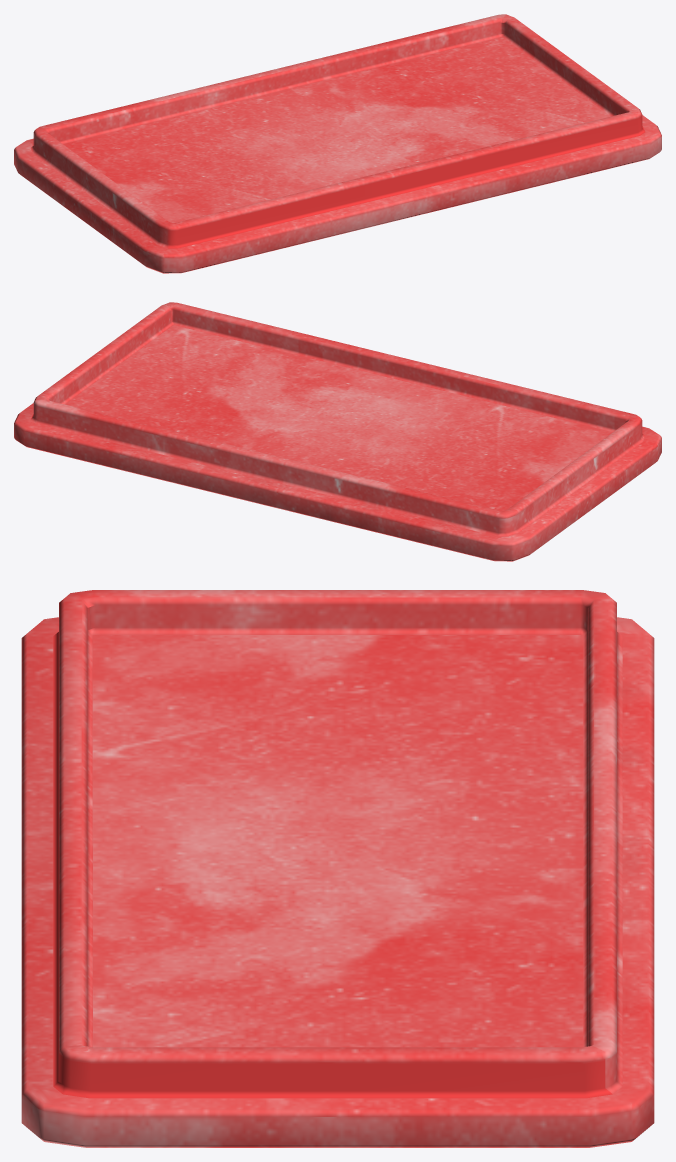
The model's file is SM_Tupper_Cover_2.fbx.
3 views of the same model, one above another, from view 1: azimuth 30°, elevation 25°; view 2: azimuth 150°, elevation 25°; view 3: azimuth 270°, elevation 25° (orthographic). The views are drawn at different scales.
Visible parts, largest first — view 1: SM_Tupper_Cover_2_LOD0; view 2: SM_Tupper_Cover_2_LOD0; view 3: SM_Tupper_Cover_2_LOD0.
Boxes of the visible parts, x1,y1,x2,y2 form: SM_Tupper_Cover_2_LOD0: (14,14,661,273); SM_Tupper_Cover_2_LOD0: (14,302,661,561); SM_Tupper_Cover_2_LOD0: (21,590,654,1147).
Bounding box in the file's own units: 29.47 × 15.73 × 2.12.
Materials: 1 (1 with a texture image).
